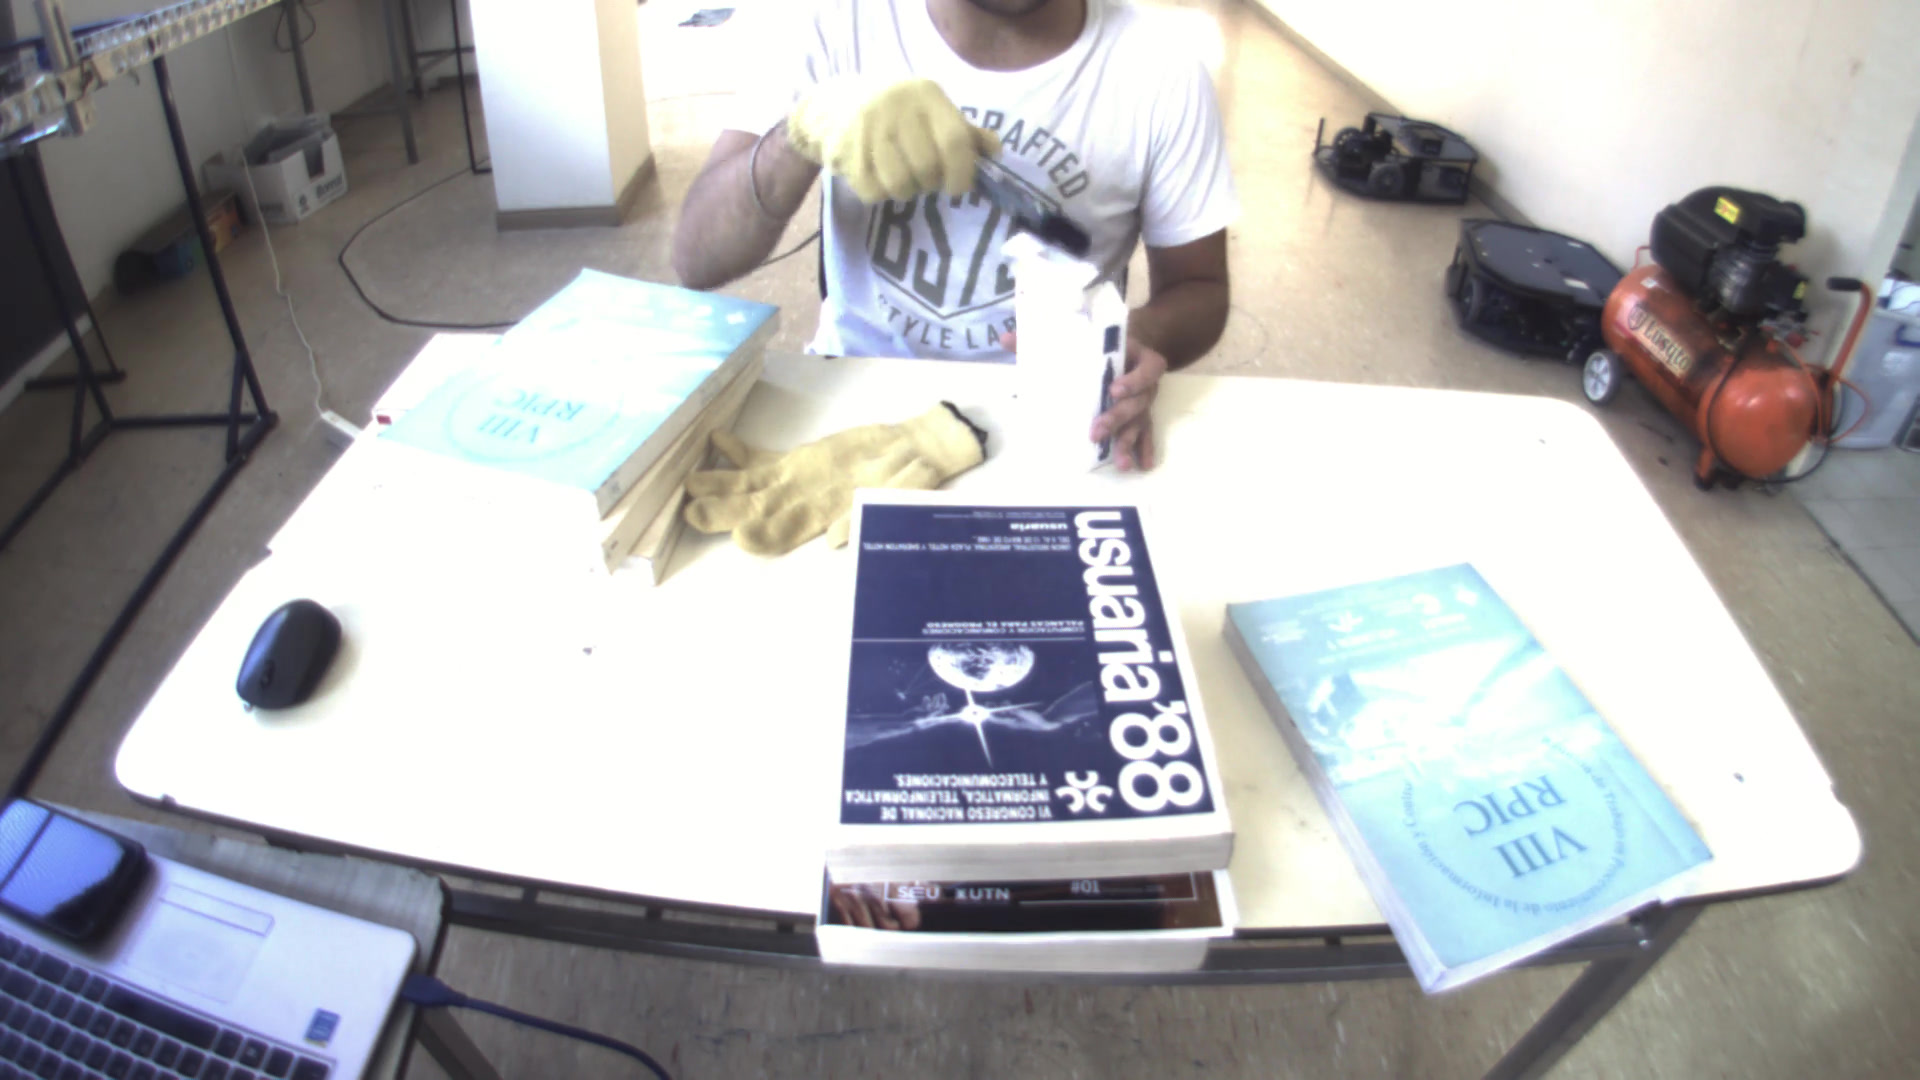hand: (779, 66, 989, 203), (1095, 328, 1172, 469)
